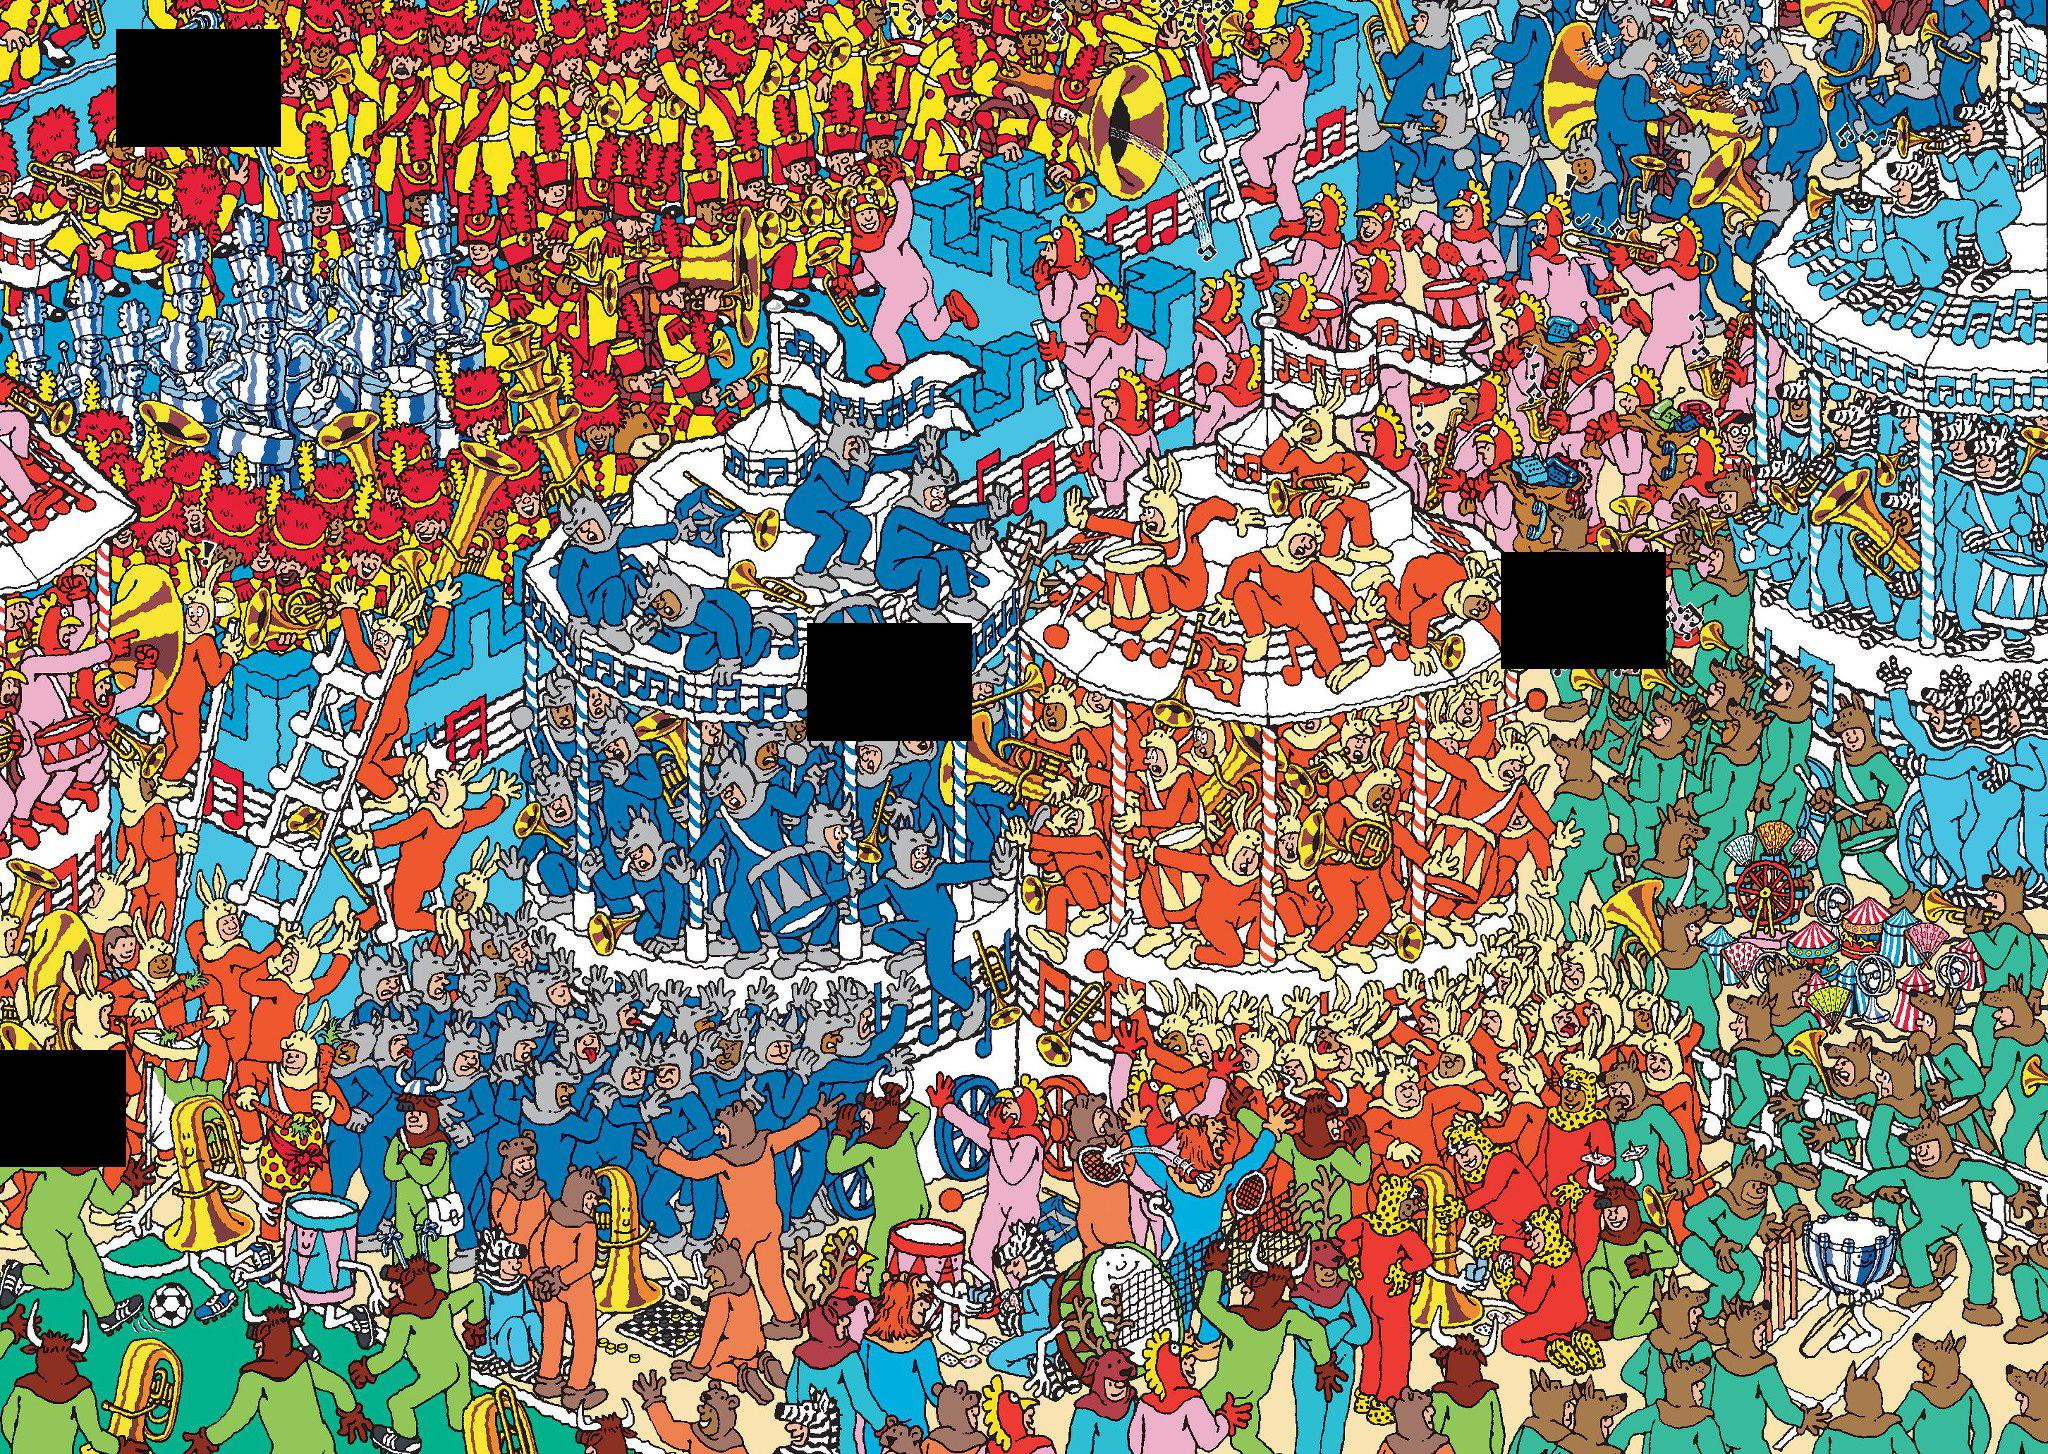waldo: (1715, 408, 1754, 452)
